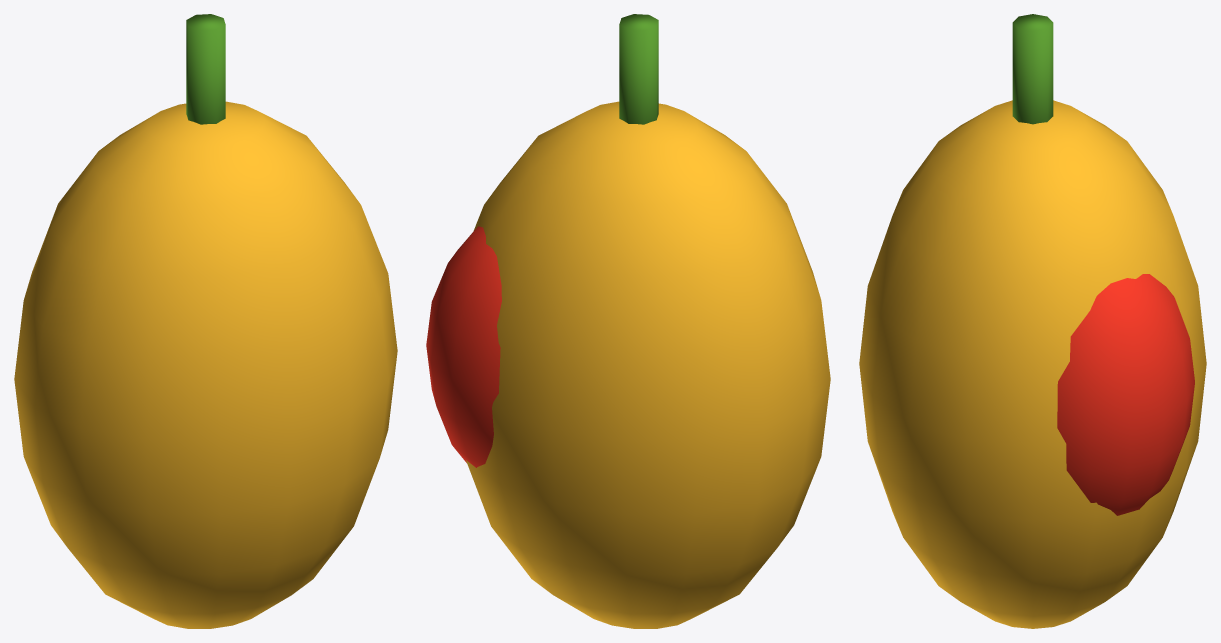
File: JungleFruit.fbx
The picture shows the model from 3 angles, left to right: view 1: azimuth 30°, elevation 25°; view 2: azimuth 150°, elevation 25°; view 3: azimuth 270°, elevation 25°; orthographic projection.
Parts seen in each view (by area): view 1: Mango, MangoStem; view 2: Mango, MangoBlush, MangoStem; view 3: Mango, MangoBlush, MangoStem.
Part boxes in pixels (left/top/right/bottom): Mango: left=14, top=101, right=397, bottom=628; MangoStem: left=186, top=14, right=225, bottom=124; Mango: left=466, top=101, right=830, bottom=628; MangoBlush: left=426, top=226, right=501, bottom=467; MangoStem: left=619, top=14, right=658, bottom=124; Mango: left=859, top=100, right=1206, bottom=628; MangoBlush: left=1057, top=274, right=1194, bottom=515; MangoStem: left=1012, top=14, right=1053, bottom=124.
Bounding box in the file's own units: 0.68 × 1.13 × 0.6.
